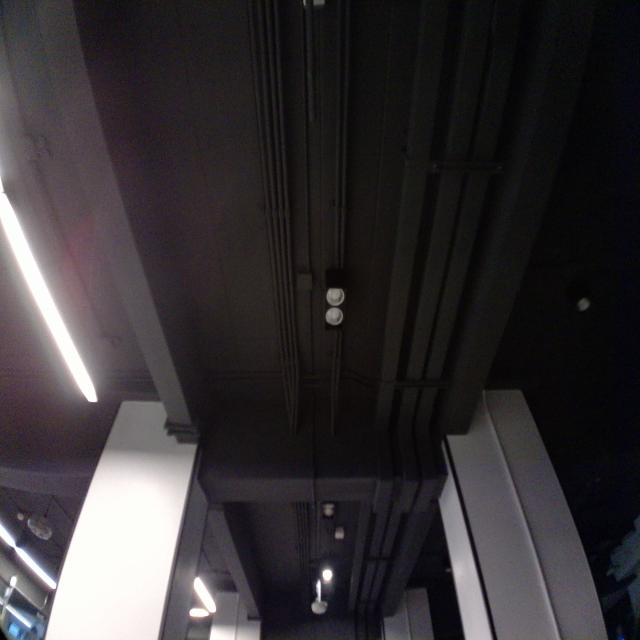lamp1_off: (316, 267, 356, 343)
